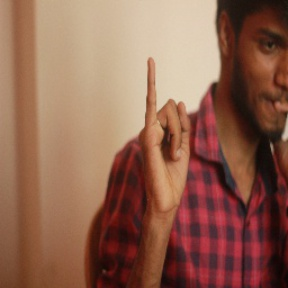I: (139, 55, 192, 209)
